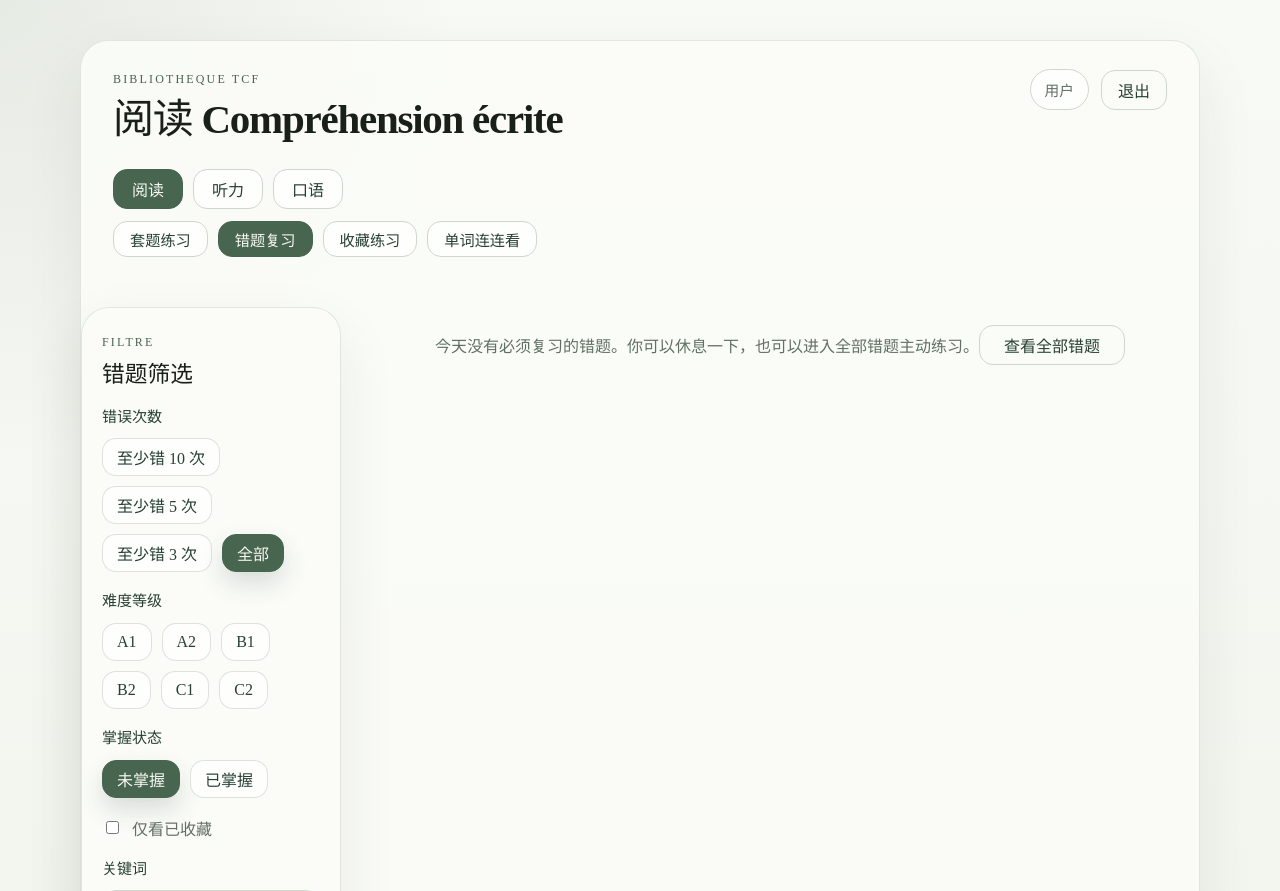
Test case: WrongQuestionPage › filters all wrong questions by mastery status
Expected: the text "今天没有必须复习的错题。你可以休息一下，也可以进入全部错题主动练习。" is shown, [435, 338, 979, 355]
Click the button "查看全部错题" at (1052, 345), box [979, 325, 1125, 365]
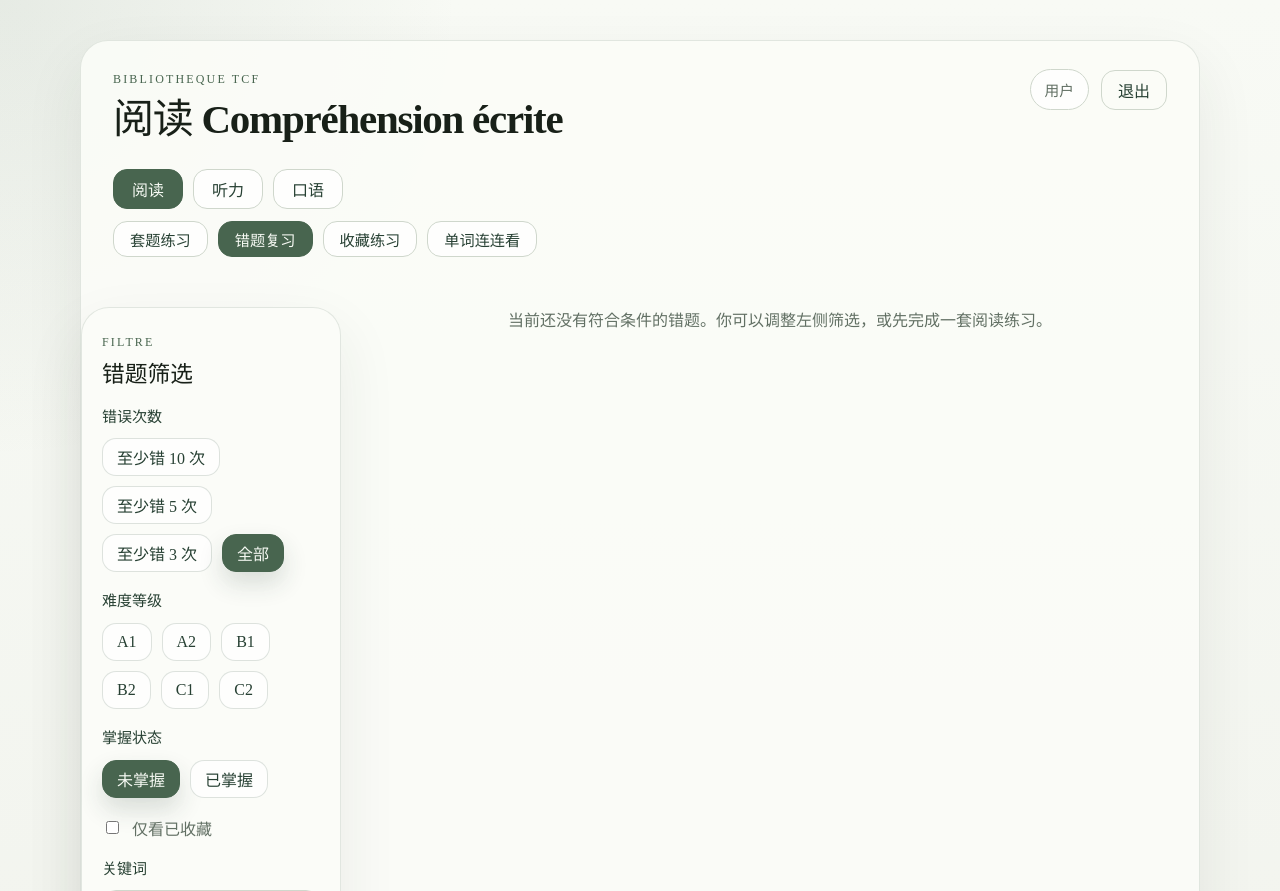
Click the button "已掌握" at (229, 779), box [190, 760, 268, 798]
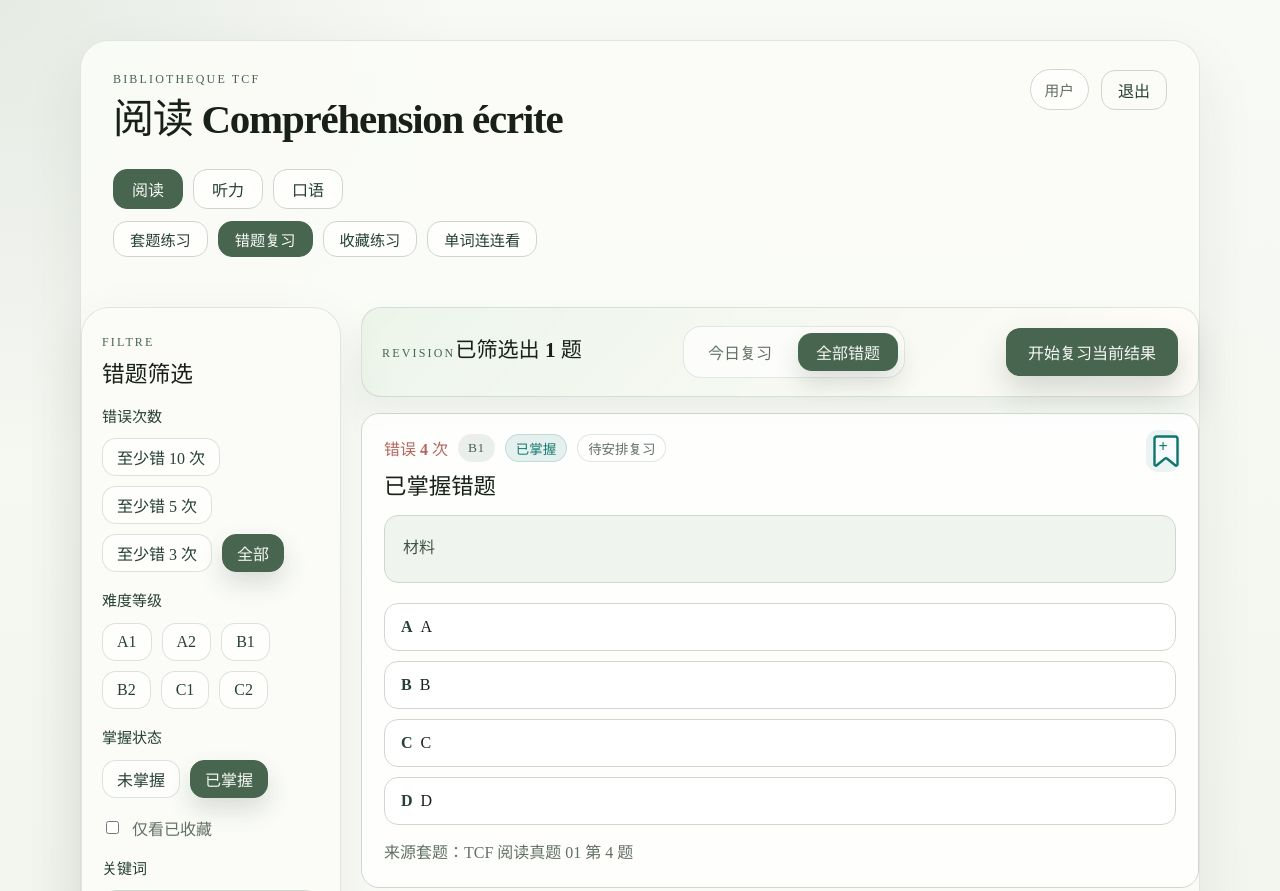
Expected: the heading "已掌握错题" is shown, [384, 474, 496, 499]
